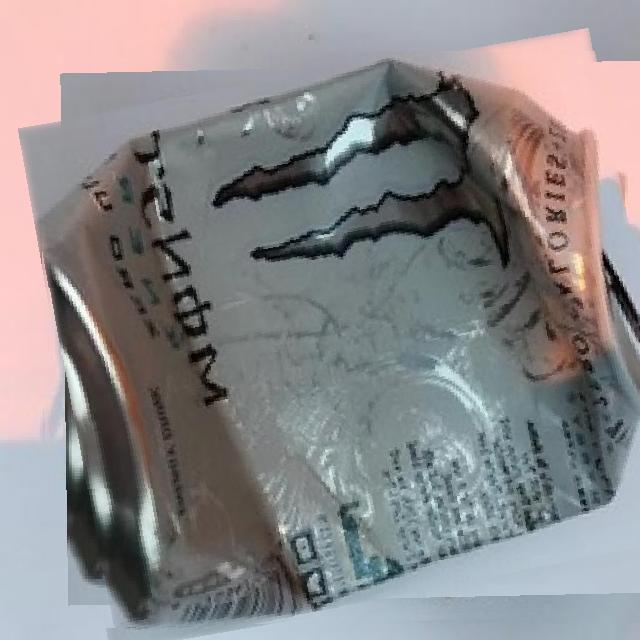recyclable: (39, 51, 640, 629)
